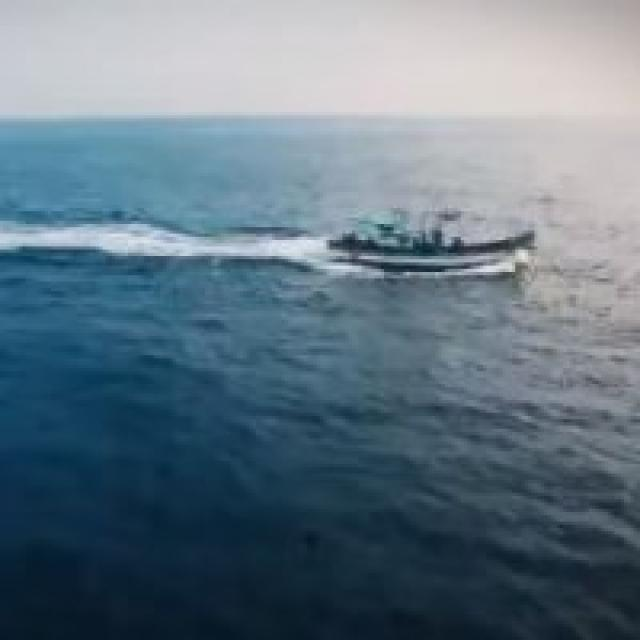Ship: (327, 193, 545, 276)
